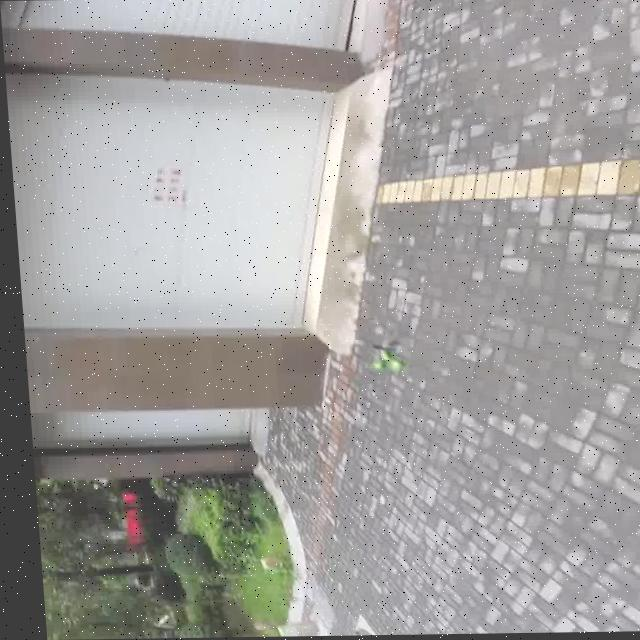drone: (354, 334, 400, 382)
